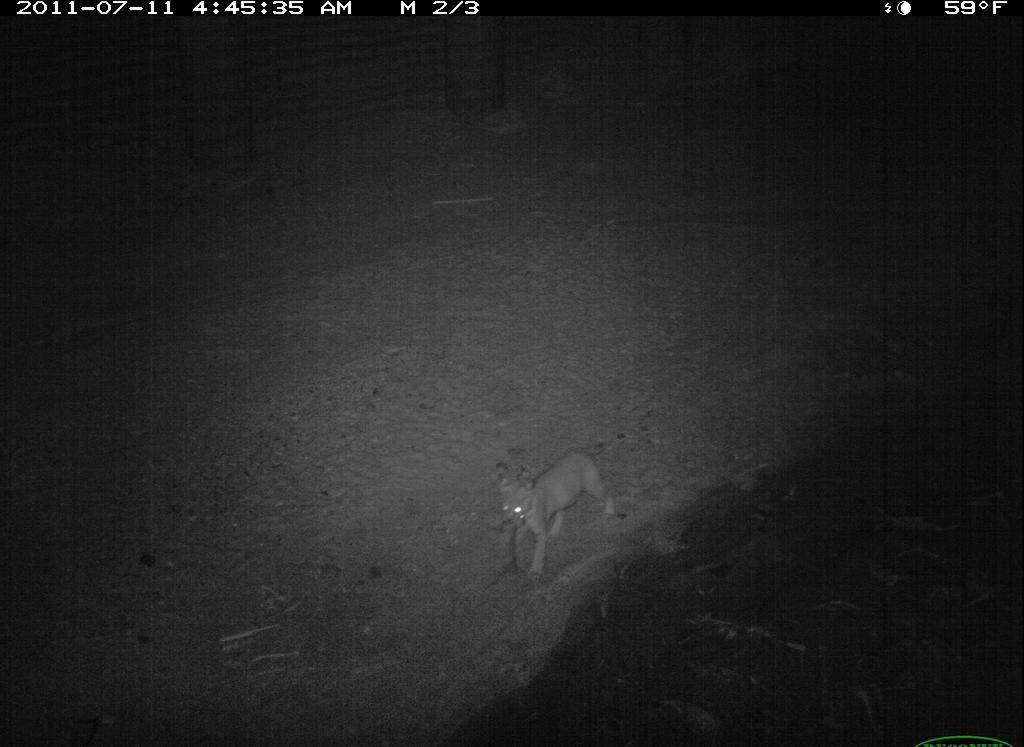bobcat: (481, 443, 625, 583)
